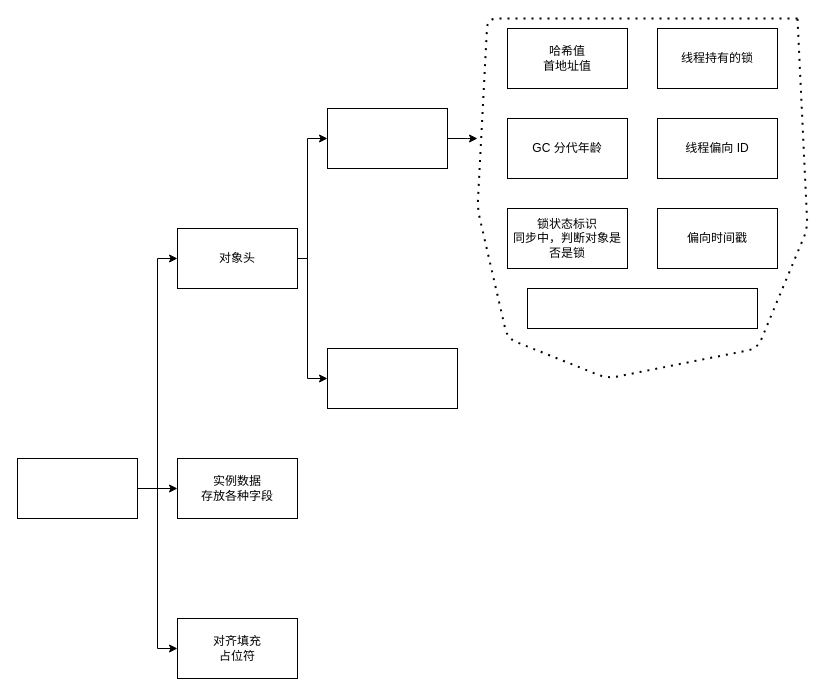
The diagram is 827 pixels wide and 696 high, and some of its shapes have lost their labels. Each missing label, with the box of its shape:
JAVA 对象: (16, 458, 138, 518)
如果对象是数组，则还需记录数组长度: (526, 288, 758, 328)
类型指针 指向该对象对应的类型: (326, 348, 458, 408)
运行时 元数据: (326, 108, 448, 168)
